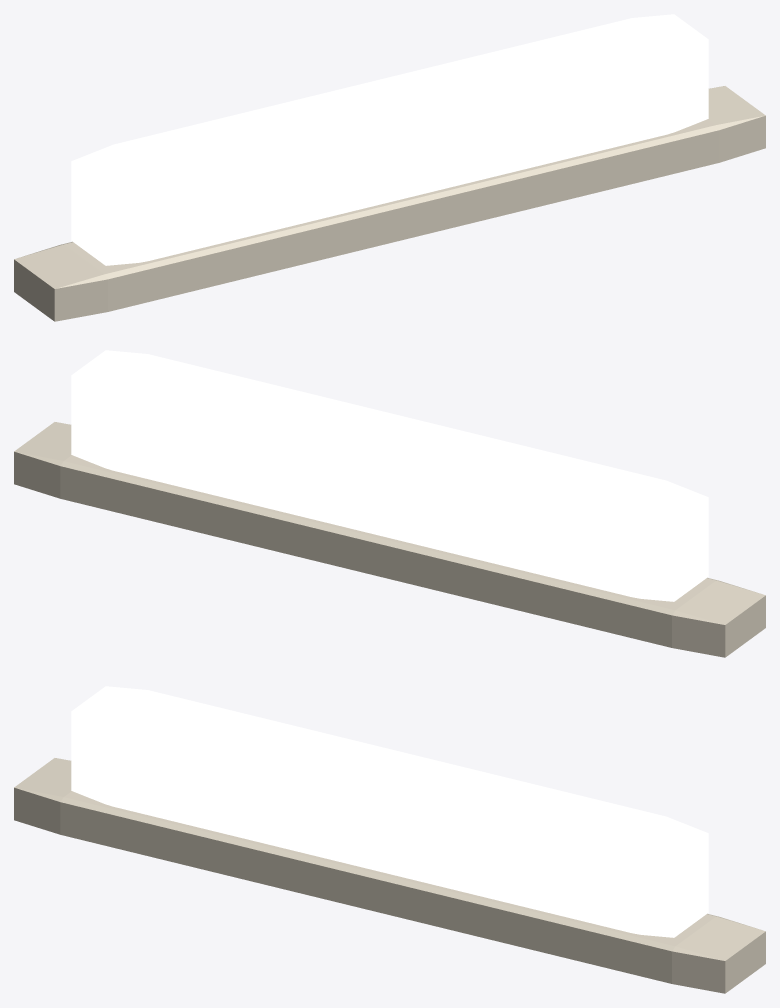
Rendered from b18_linear_canopy_strip_light.glb.
3 views of the same model, one above another, from view 1: azimuth 30°, elevation 25°; view 2: azimuth 150°, elevation 25°; view 3: azimuth 330°, elevation 25° (orthographic).
Visible parts, largest first — view 1: b18_linear_canopy_strip_light; view 2: b18_linear_canopy_strip_light; view 3: b18_linear_canopy_strip_light.
Part boxes in pixels (<box>): b18_linear_canopy_strip_light: <box>14,14,765,321</box>; b18_linear_canopy_strip_light: <box>14,350,765,657</box>; b18_linear_canopy_strip_light: <box>14,686,765,993</box>.
Size of the model in its own units: 1.3 by 0.225 by 0.15.
